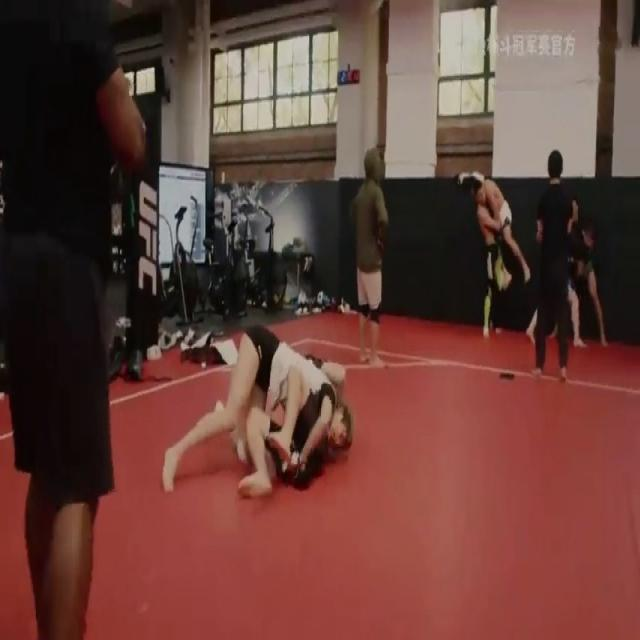fight: (159, 326, 349, 500), (459, 171, 530, 341), (528, 212, 603, 356)
non-fight: (1, 2, 140, 639), (534, 146, 580, 387), (348, 146, 388, 367)
